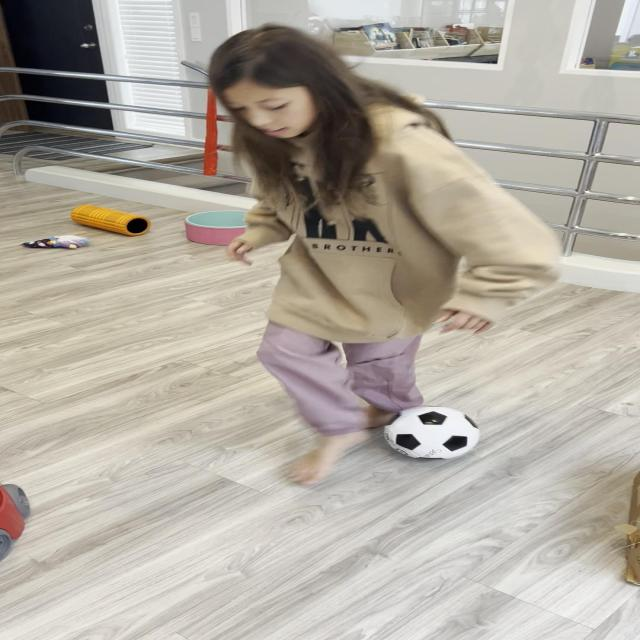Soccer Ball: (386, 405, 480, 460)
